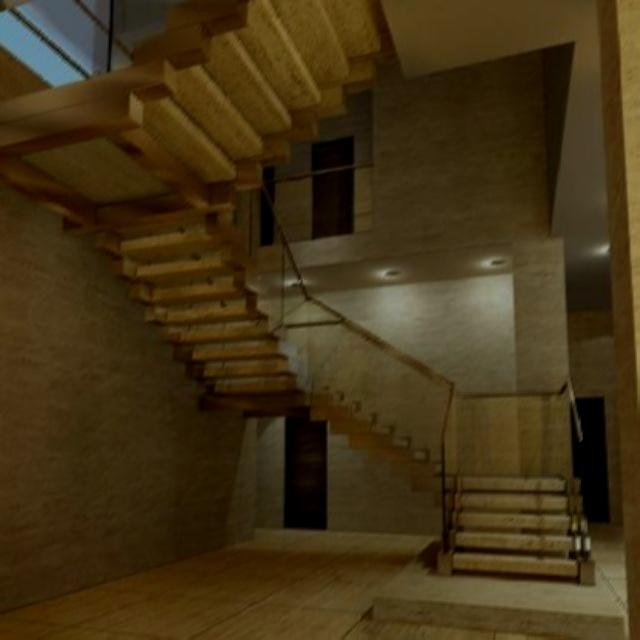stair: (130, 198, 604, 600)
